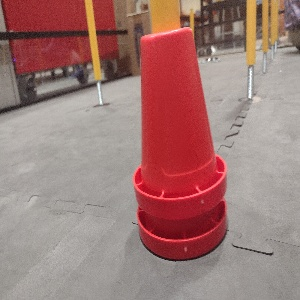Red_2: (132, 25, 228, 262)
